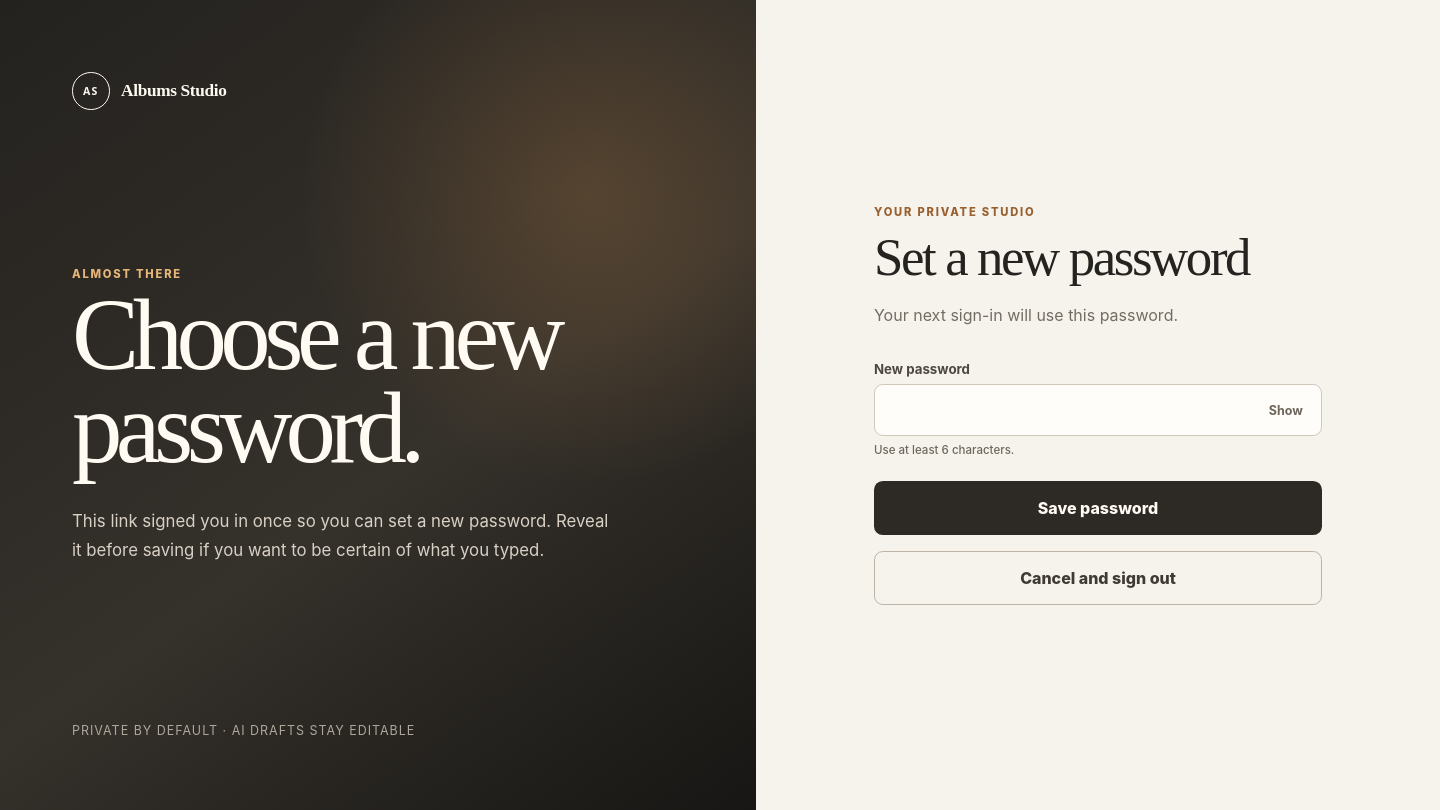
Test case: App › returns to sign-in when recovery is cancelled
The width and height of the screenshot is (1440, 810).
Later steps or results of the test are not shown.
Expected: the heading "Set a new password" is shown, [874,228,1249,286]
Click the button "Cancel and sign out" at [1098, 578], box [874,551,1322,605]
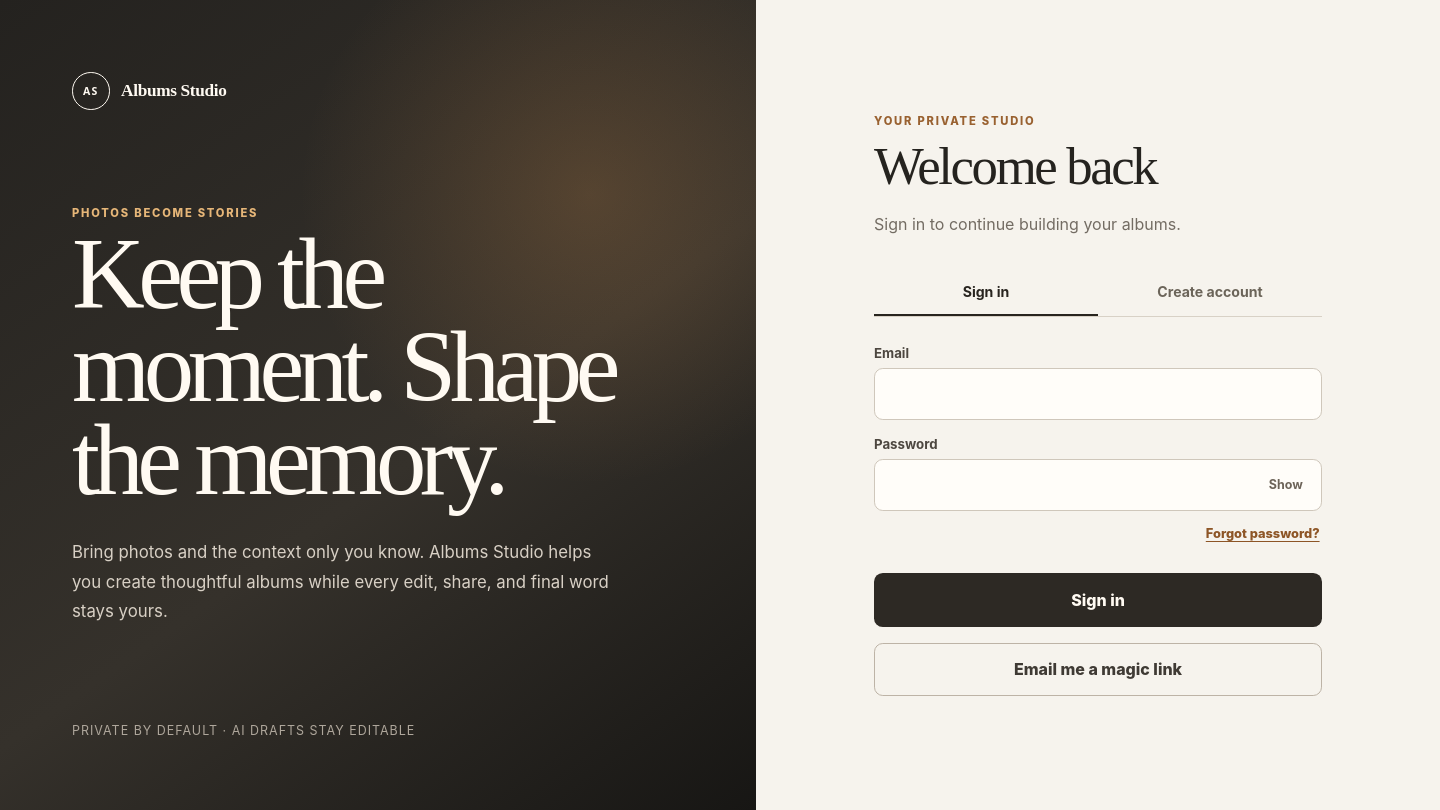
Expected: the heading "Welcome back" is shown, [874,137,1156,195]
